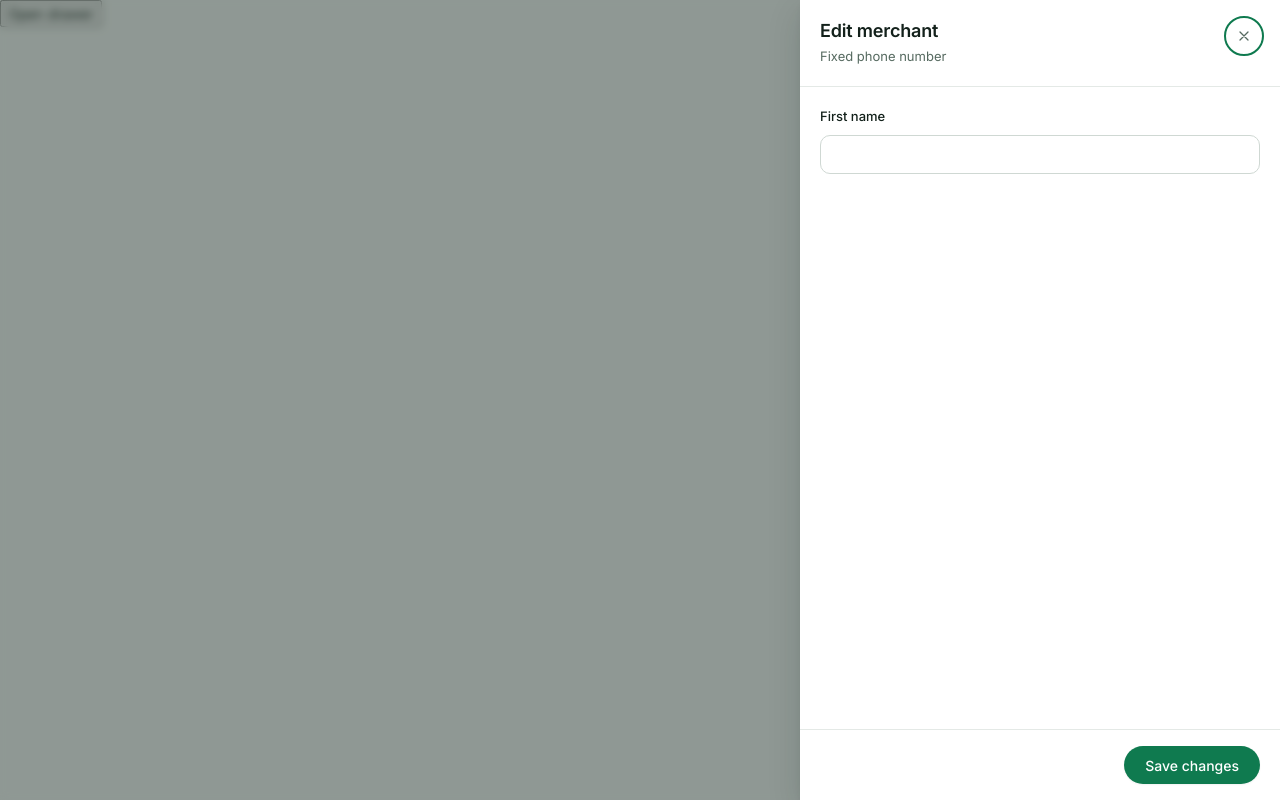
Drawer › keeps entered values when validation fails
Type "Anita" into the field labelled "First name" at (1040, 154), box [820,134,1260,174]
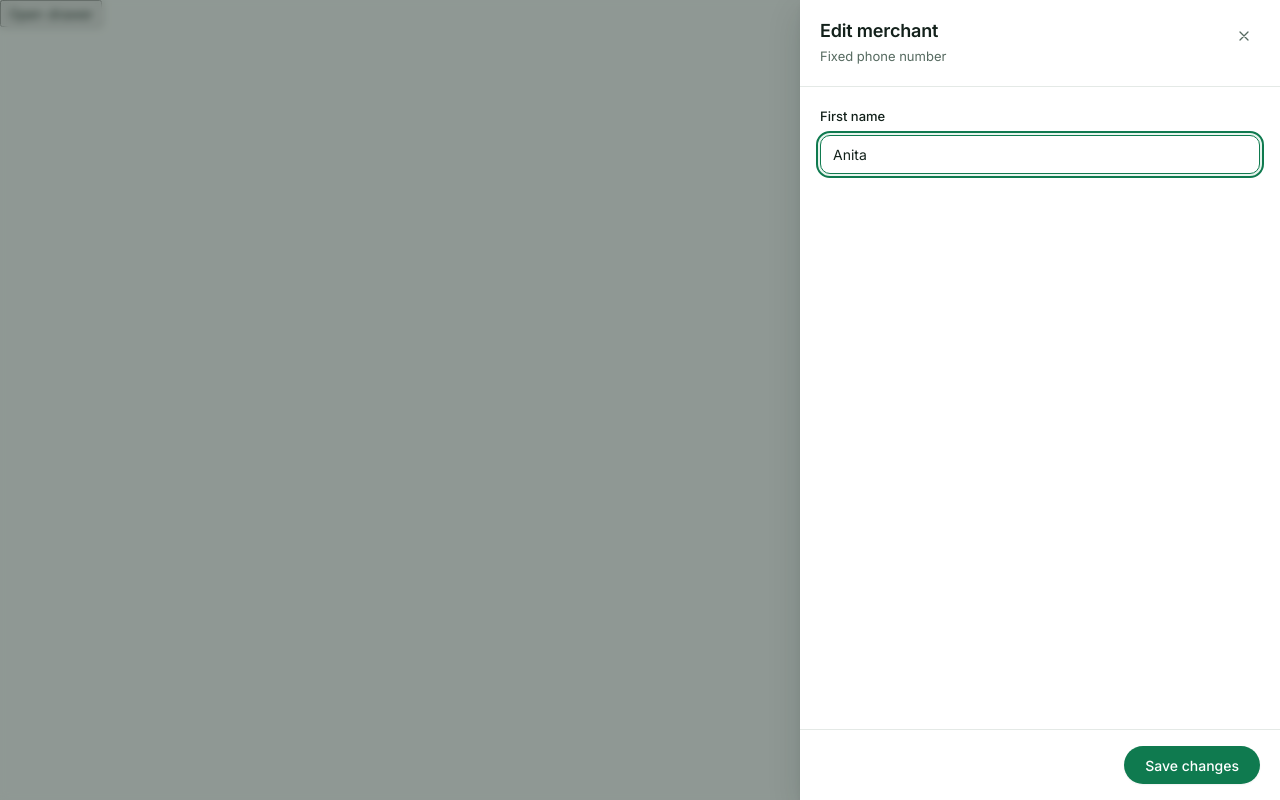
Click the button "Save changes" at (1192, 765), box [1124,746,1260,784]
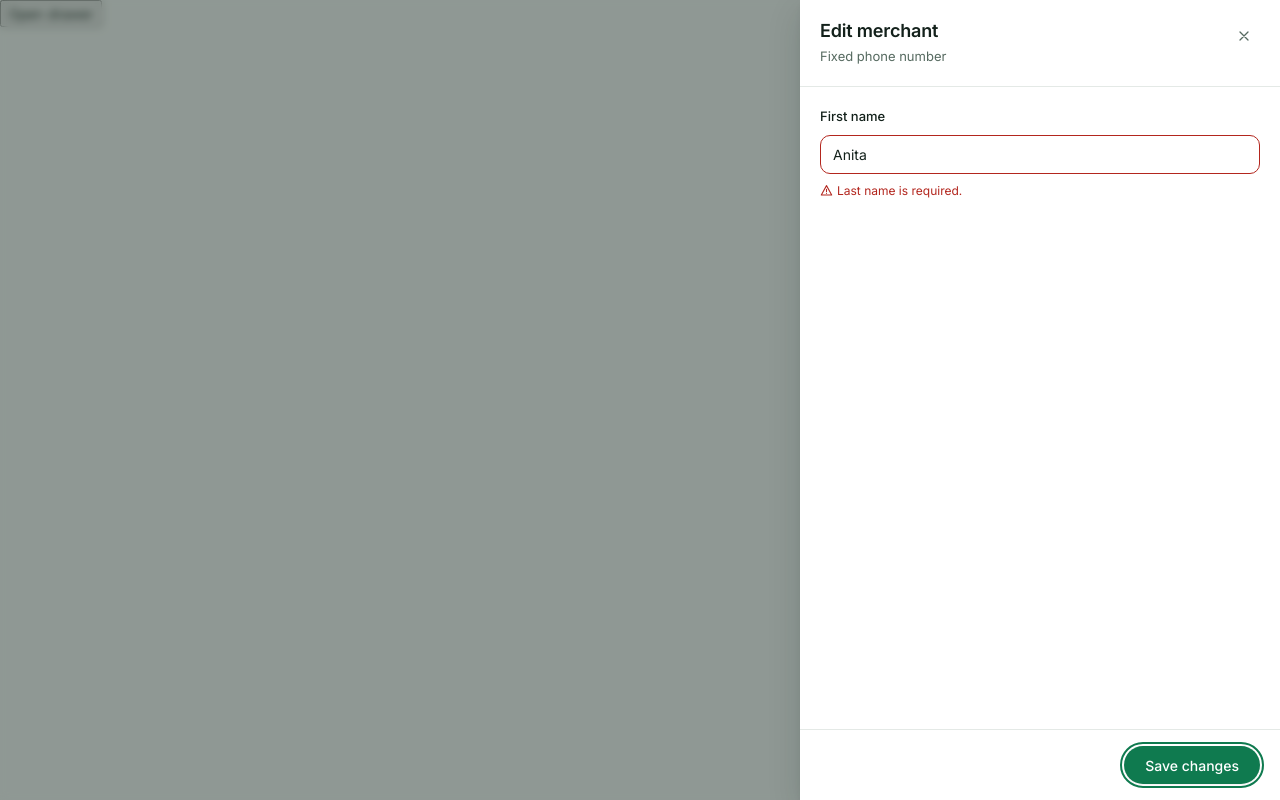
Check: the dialog is shown, box [800,0,1279,799]
Check: the message reads "Last name is required.", box [837,182,962,198]
